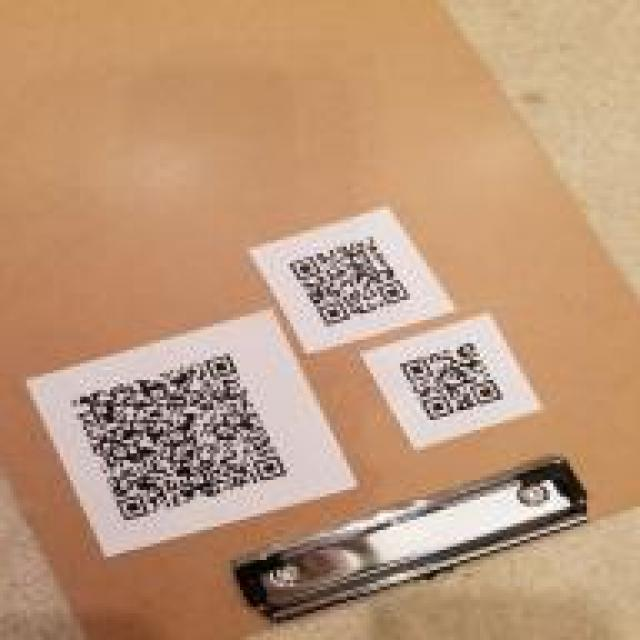QR_CODE: (61, 346, 296, 536), (283, 220, 417, 333), (393, 336, 517, 426)
